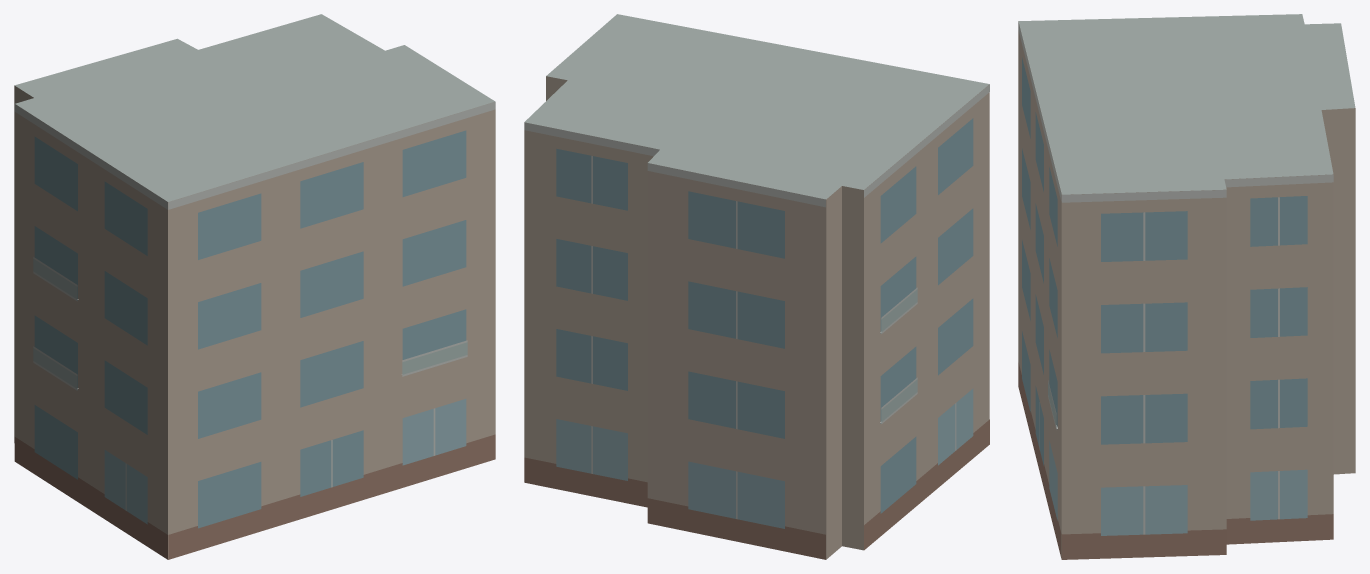
Rendered from survey-upis-32923062.glb.
3 renders of one model, left to right at view 1: azimuth 30°, elevation 25°; view 2: azimuth 150°, elevation 25°; view 3: azimuth 270°, elevation 25°, orthographic. The views are drawn at different scales.
Parts seen in each view (by area): view 1: survey-upis-32923062.tmp; view 2: survey-upis-32923062.tmp; view 3: survey-upis-32923062.tmp.
Part boxes in pixels (x1,y1,x2,y2): survey-upis-32923062.tmp: (14,14,495,559); survey-upis-32923062.tmp: (524,14,989,559); survey-upis-32923062.tmp: (1018,14,1355,559).
Bounding box in the file's own units: 11.79 × 11.1 × 9.3.
